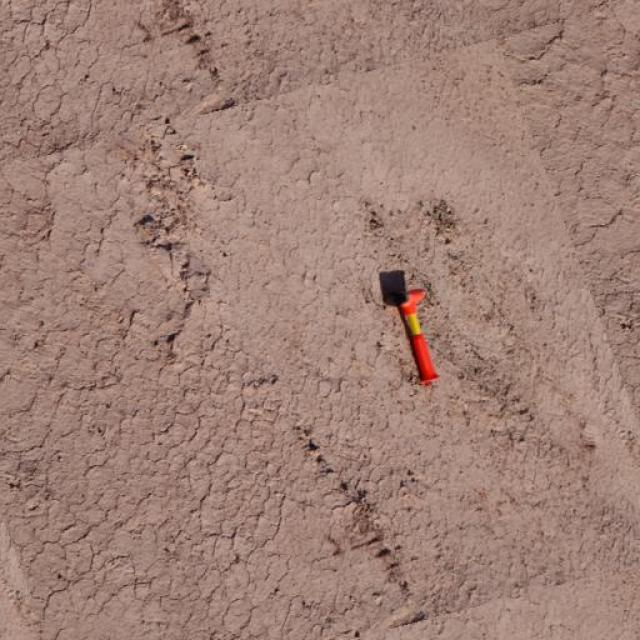mallet: (378, 267, 438, 385)
